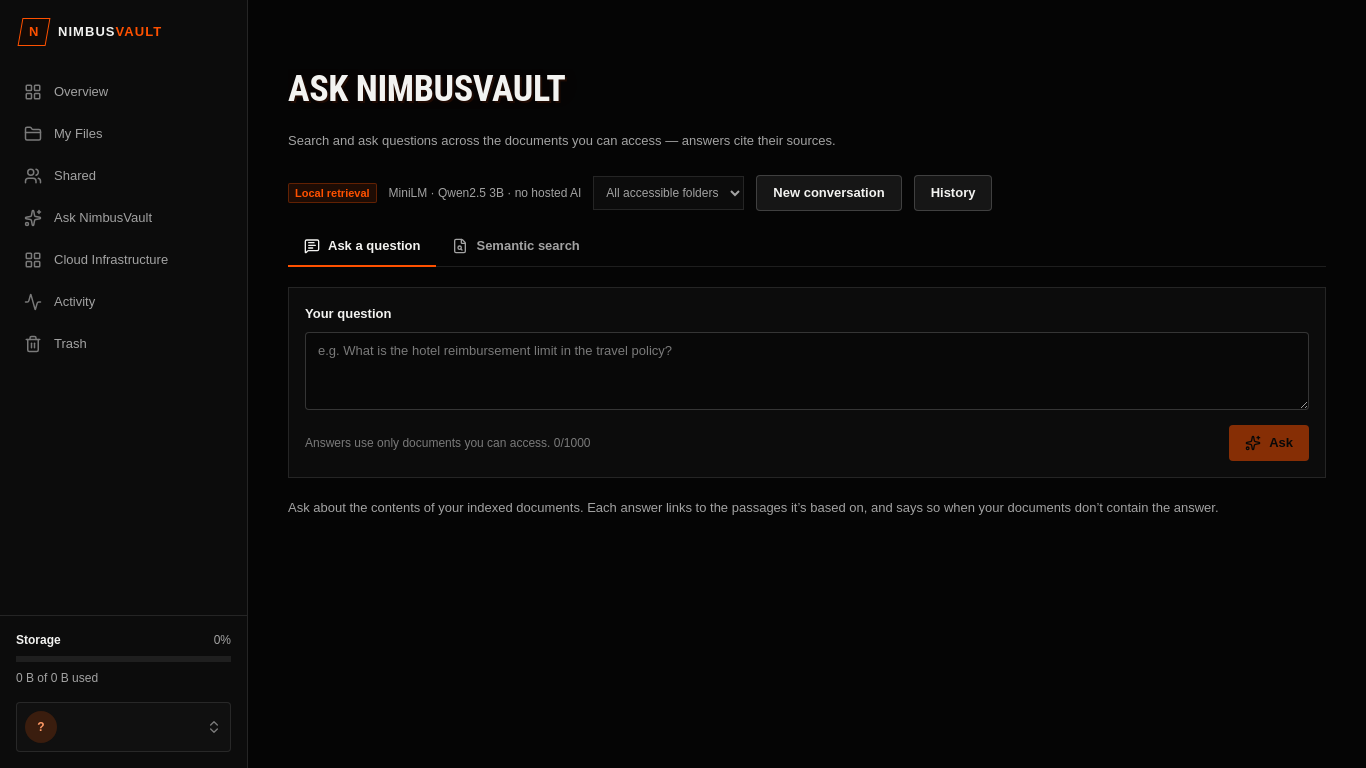
it: AskPage › prepares answers as a polled background job when the server supports it
The image size is (1366, 768).
Replace the text in the text box labelled "Your question" with "What is the hotel cap?" at {"x": 807, "y": 371}, box [305,332,1309,410]
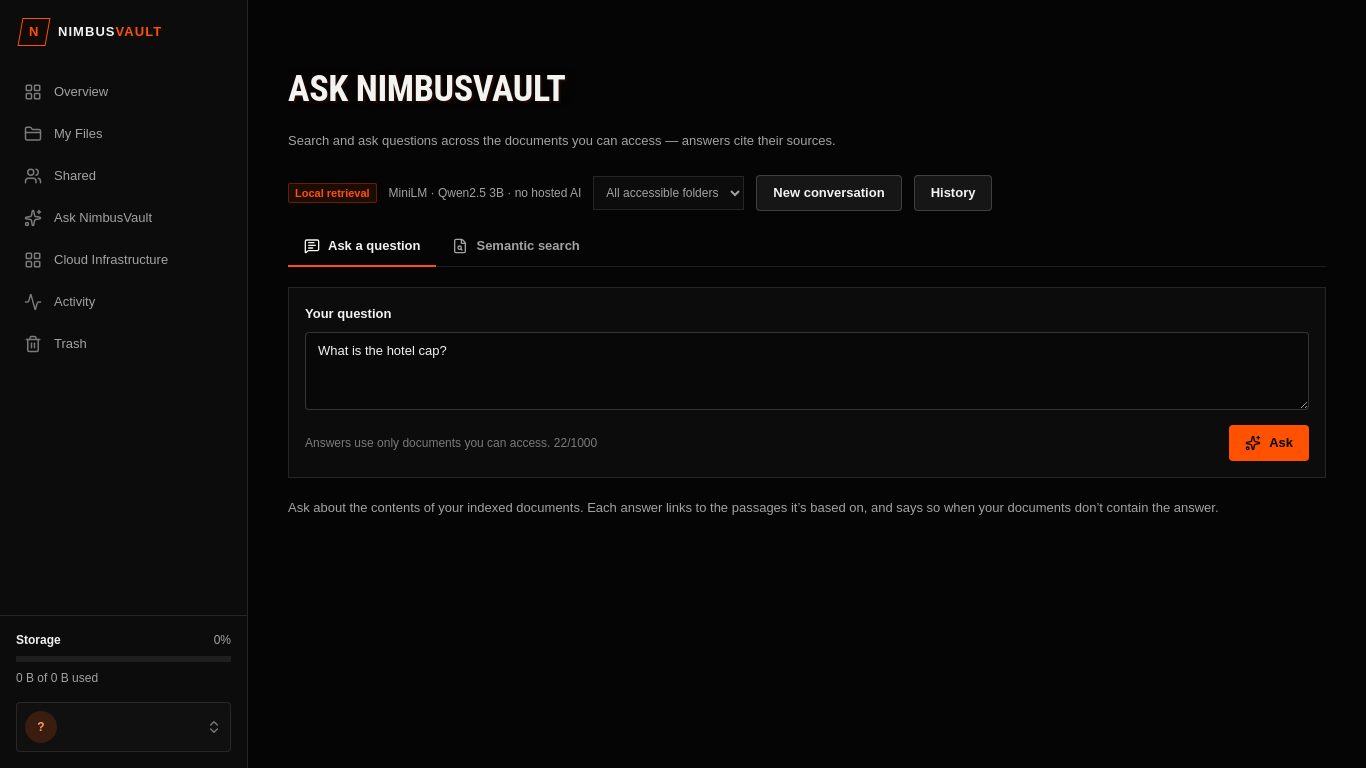
Click the button "Ask" at {"x": 1269, "y": 443}, box [1229,425,1309,461]
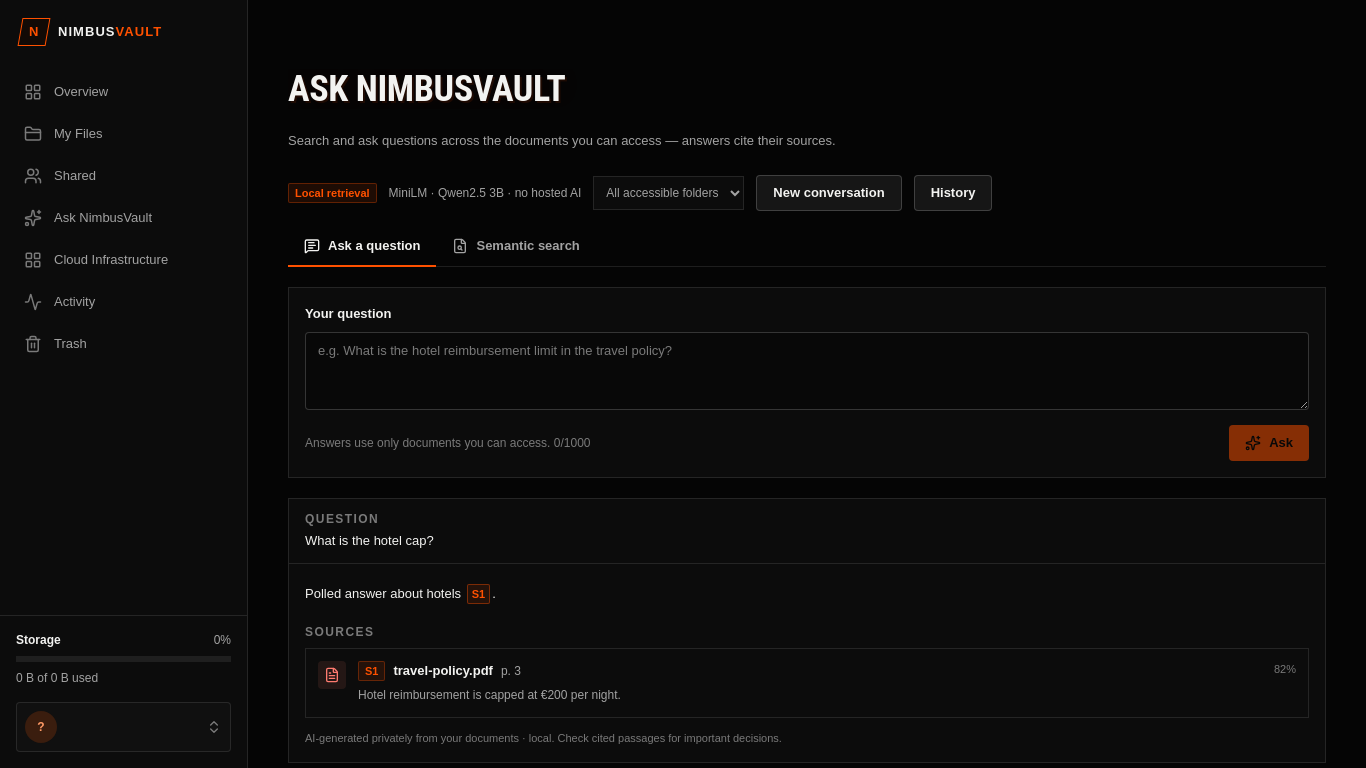
Now the text "Polled answer about hotels" is shown, box [305,586,465,601]
